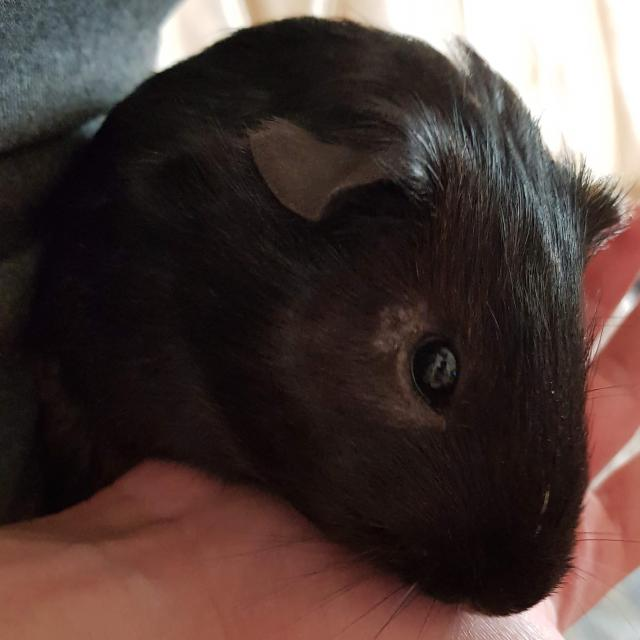guinea pig: (21, 14, 622, 616)
